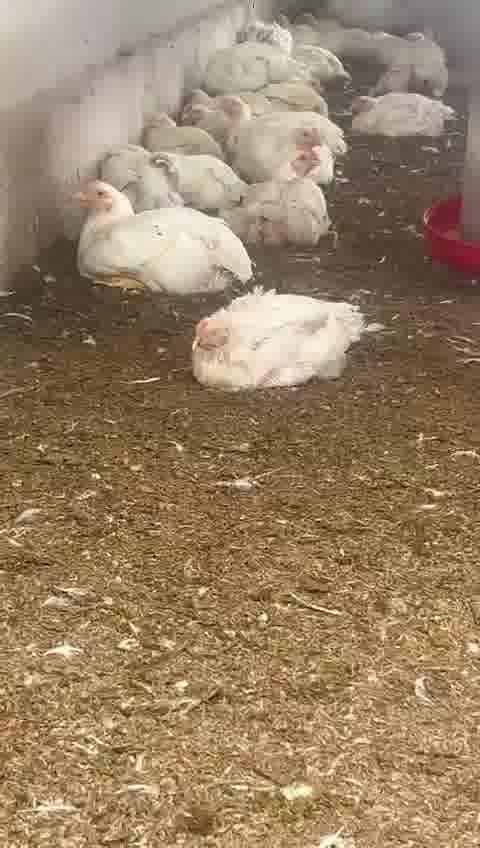AbNormal: (179, 291, 371, 390), (99, 143, 230, 202), (140, 110, 217, 152), (171, 82, 223, 123)
Normal: (55, 183, 254, 299), (211, 96, 349, 160), (245, 142, 331, 244), (343, 82, 458, 142)
